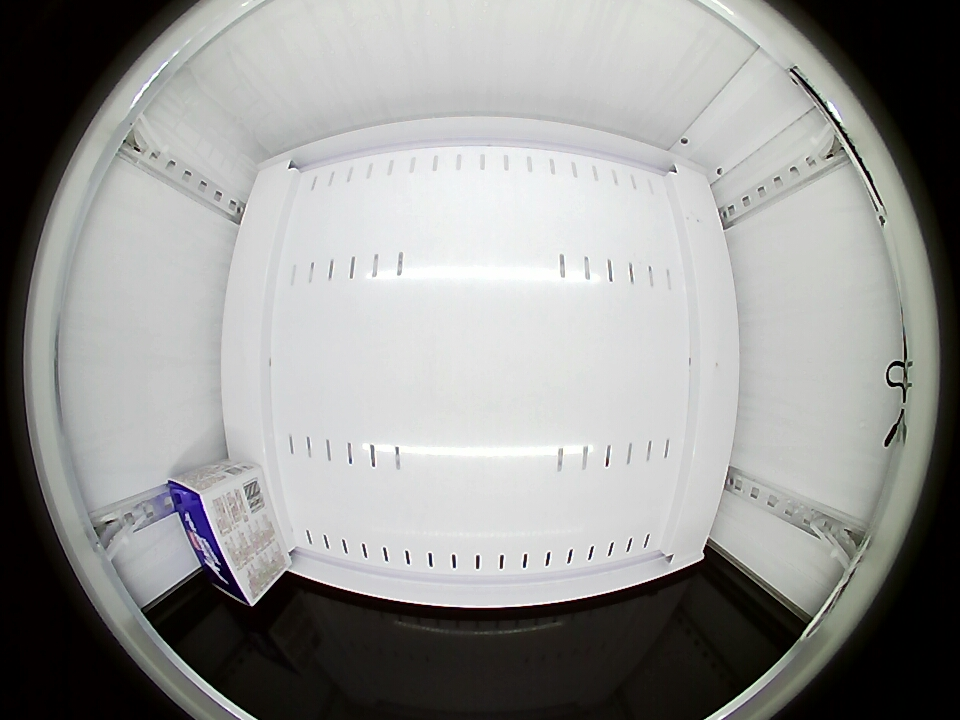meiniye: (168, 474, 266, 607)
